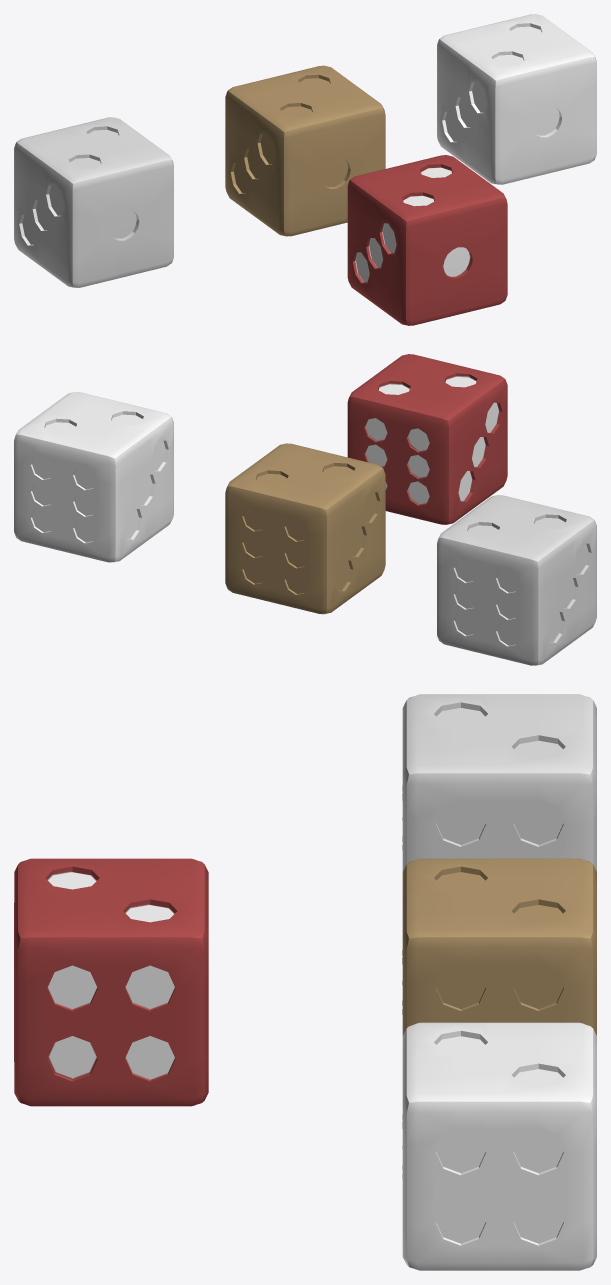
File: model_multiple_04.fbx
3 renders of one model, top to bottom at view 1: azimuth 30°, elevation 25°; view 2: azimuth 150°, elevation 25°; view 3: azimuth 270°, elevation 25°, orthographic. The views are drawn at different scales.
Visible parts, largest first — view 1: dice04, dice02, dice03, dice01; view 2: dice01, dice03, dice02, dice04; view 3: dice03, dice04, dice02, dice01.
Part boxes in pixels (box(x1,y1,x2,y2)): dice04: box(347, 155, 507, 325); dice02: box(14, 117, 173, 287); dice03: box(437, 14, 596, 184); dice01: box(225, 65, 385, 236); dice01: box(225, 443, 385, 614); dice03: box(14, 392, 173, 562); dice02: box(437, 495, 596, 665); dice04: box(347, 354, 507, 524); dice03: box(402, 1022, 596, 1270); dice04: box(14, 858, 208, 1106); dice02: box(402, 694, 596, 871); dice01: box(402, 858, 596, 1035).
Size of the model in its own units: 25 by 5 by 15.01.
